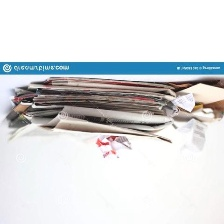news_paper: (0, 75, 177, 146)
